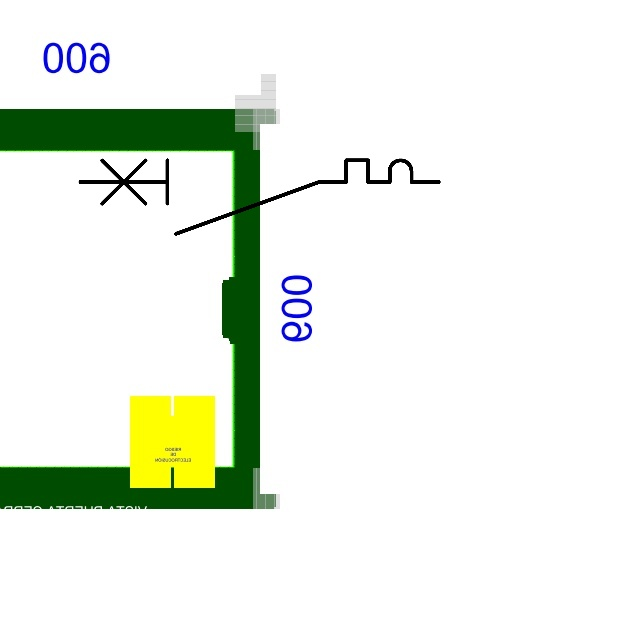interruptor_termomagnetico: (71, 151, 448, 243)
